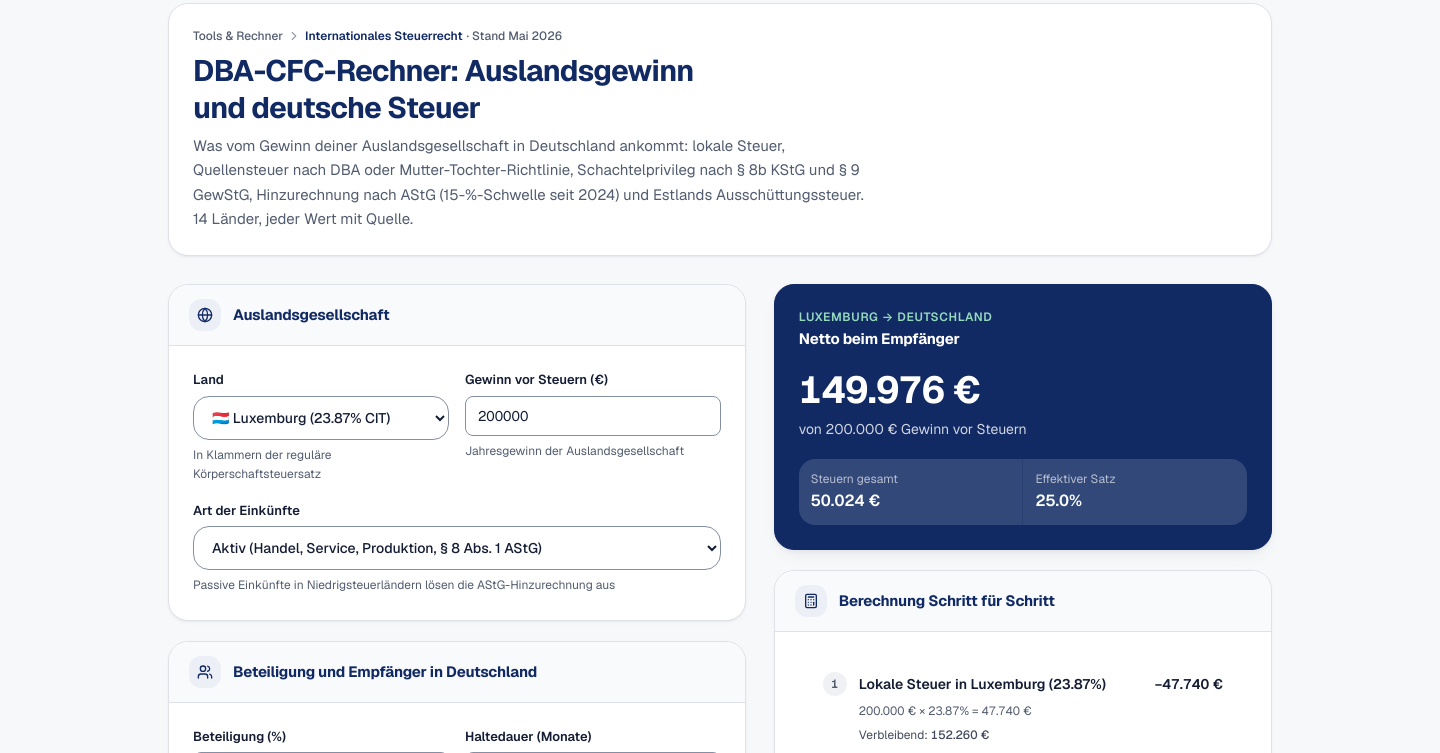
Test: DbaCfcRechner: Privatperson › Schweiz privat: DBA-Satz 15 % statt Schachtel-0 % und Anrechnung nach §32d Abs. 5
The image size is (1440, 753).
Select "🇨🇭 Schweiz (11.66% CIT)" in the dropdown labelled "Land" at x=321, y=418, box [193,396,449,440]
(page scrolled)
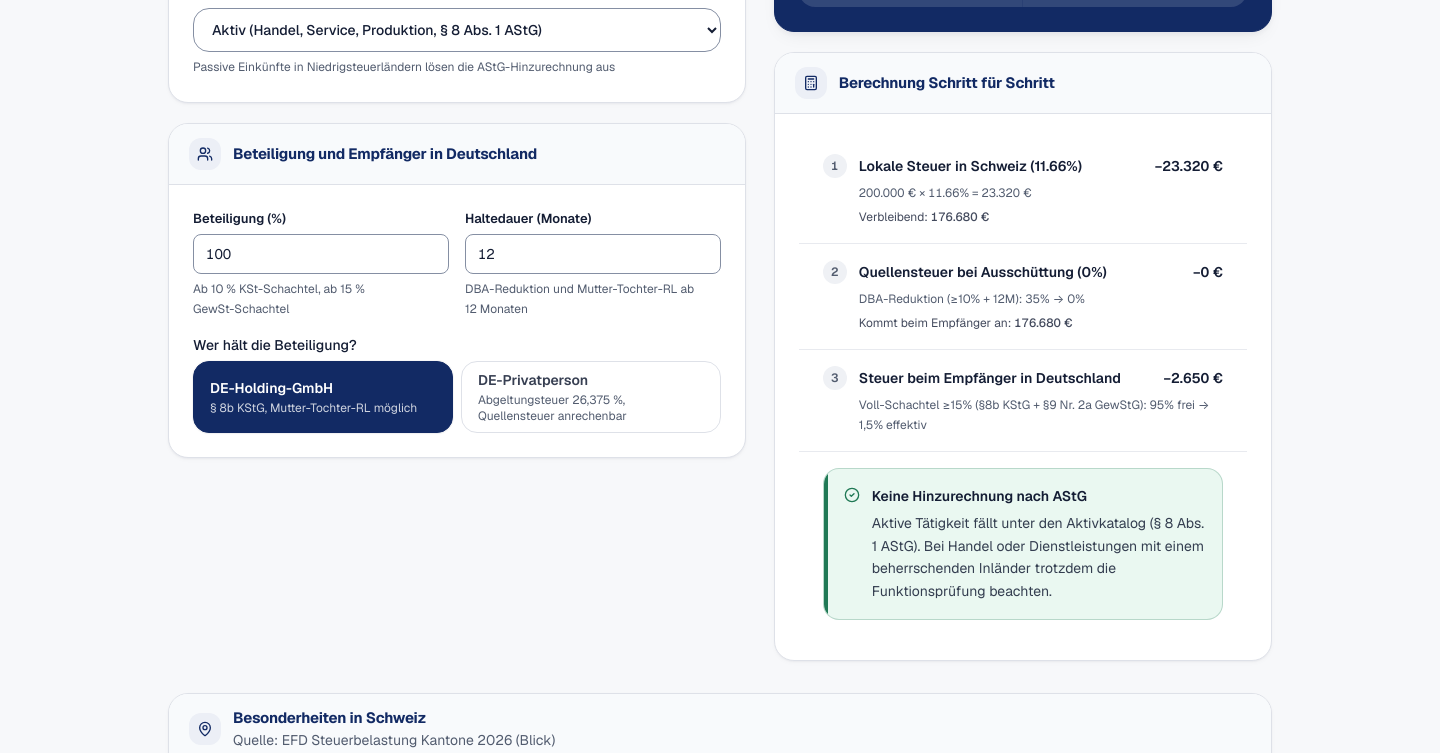
Click the text "DE-Privatperson" at x=533, y=380, box [478,372,588,390]
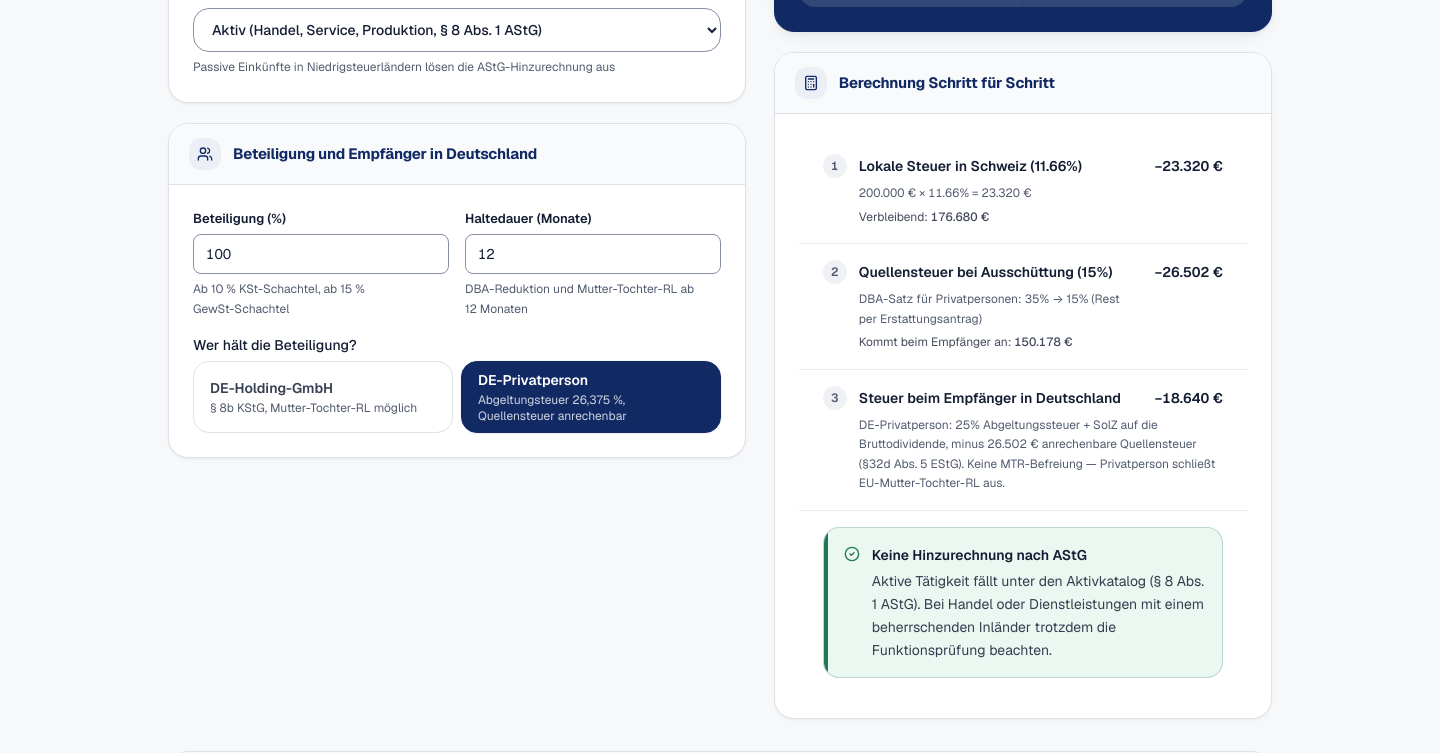
Expected: the text "Quellensteuer bei Ausschüttung (15%)" is shown, [859,260,1112,282]
Expected: the text "anrechenbare Quellensteuer (§32d Abs. 5 EStG)" is shown, [859,417,1216,491]
